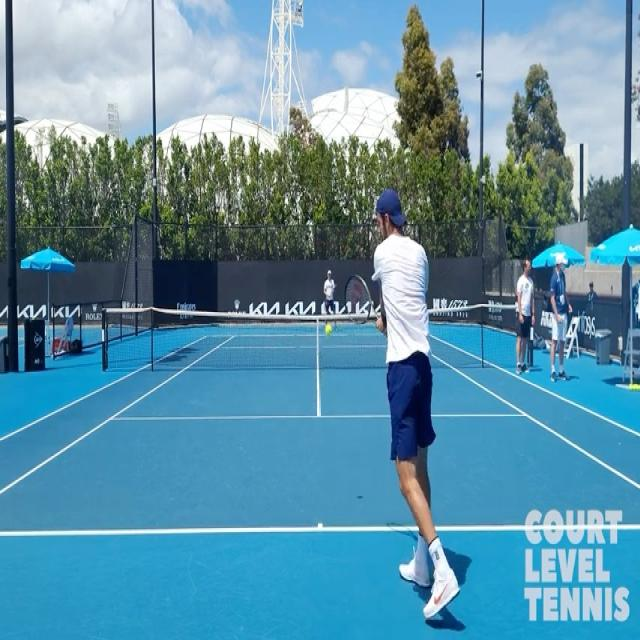backhand-stroke: (336, 175, 476, 629)
